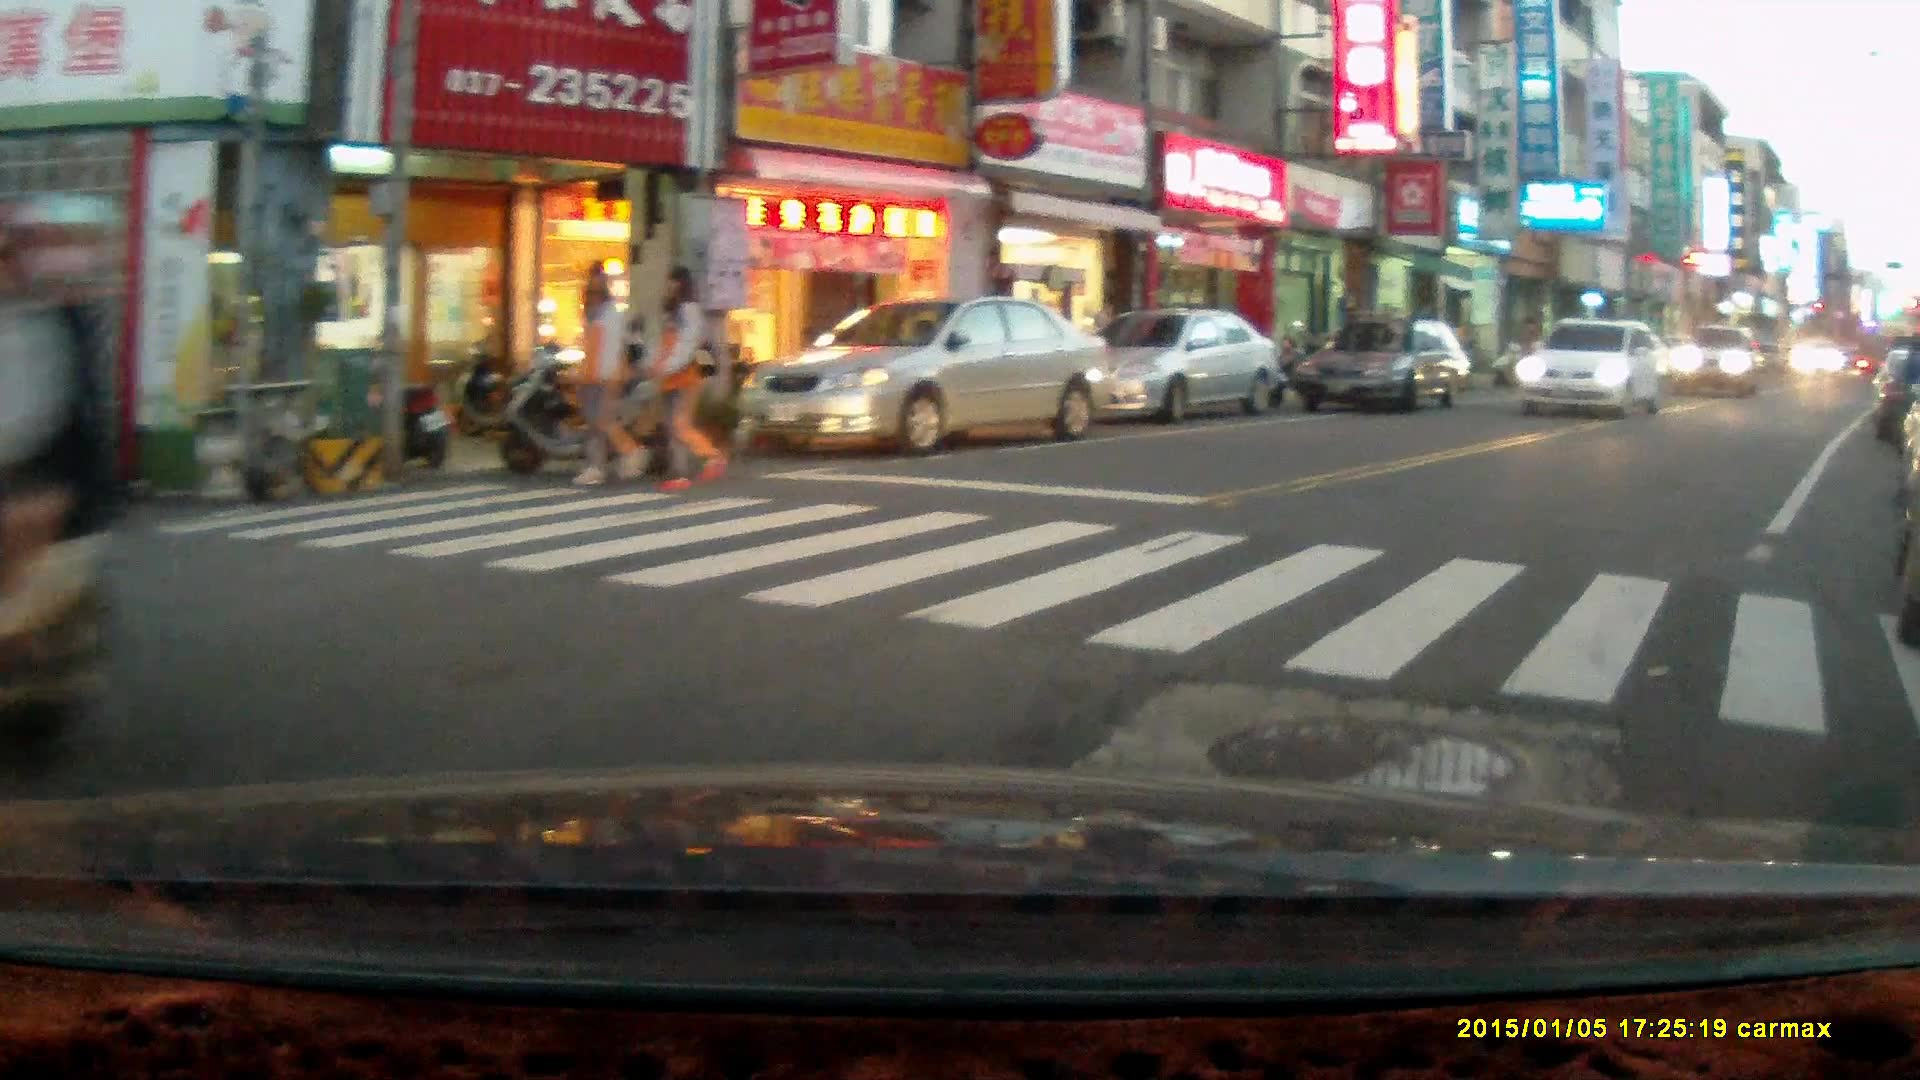pedestrian: (558, 260, 648, 486), (641, 262, 726, 493)
rider: (0, 189, 132, 778)
vehicle: (740, 297, 1113, 451), (1049, 310, 1284, 419), (1291, 318, 1477, 409), (1514, 317, 1670, 412), (1663, 322, 1771, 400), (1786, 333, 1846, 383)
